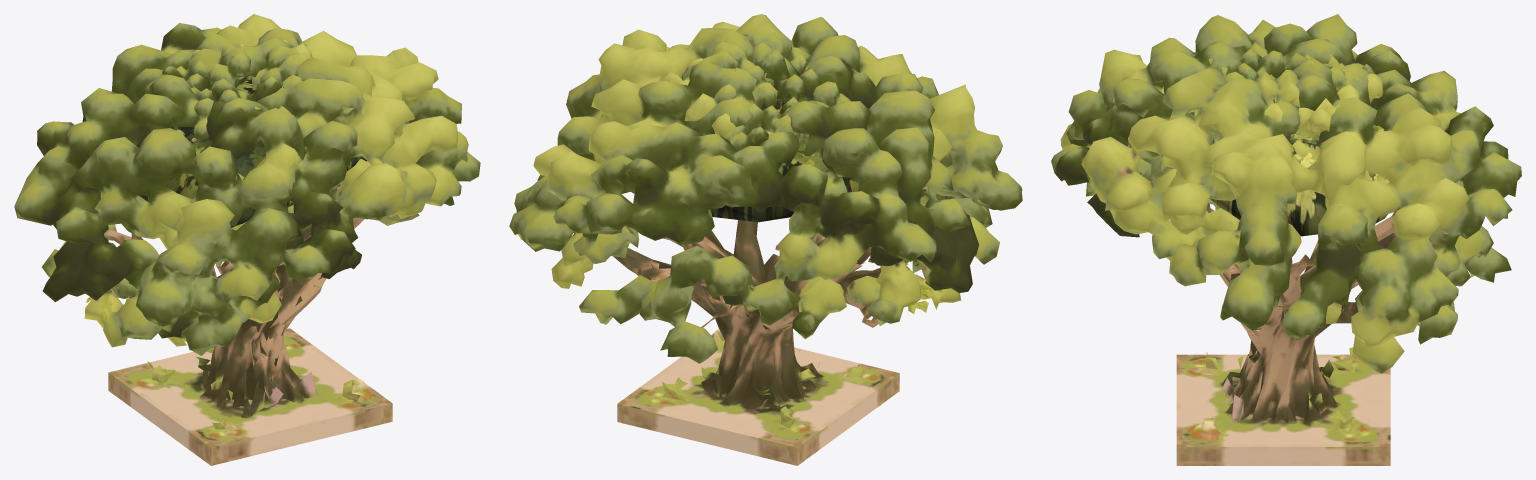
The model's file is tree_banyan.glb.
The picture shows the model from 3 angles, left to right: view 1: azimuth 30°, elevation 25°; view 2: azimuth 150°, elevation 25°; view 3: azimuth 270°, elevation 25°; orthographic projection. The views are drawn at different scales.
Visible parts, largest first — view 1: body, canopy; view 2: body, canopy; view 3: body, canopy.
Part boxes in pixels (<box>): body: <box>14,14,480,465</box>; canopy: <box>137,77,366,227</box>; body: <box>509,14,1022,465</box>; canopy: <box>702,96,868,222</box>; body: <box>1051,14,1521,465</box>; canopy: <box>1209,123,1391,236</box>.
Size of the model in its own units: 12.06 by 9.61 by 11.2.
2 materials, 2 textured.
